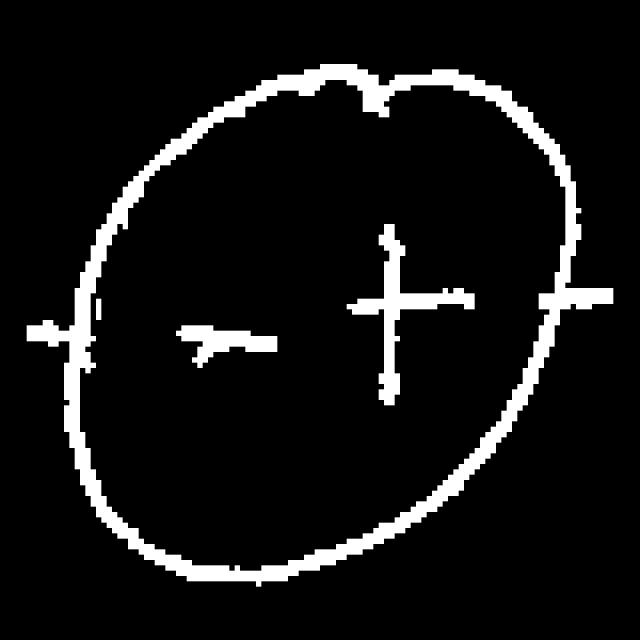voltage_source: (58, 50, 588, 590)
